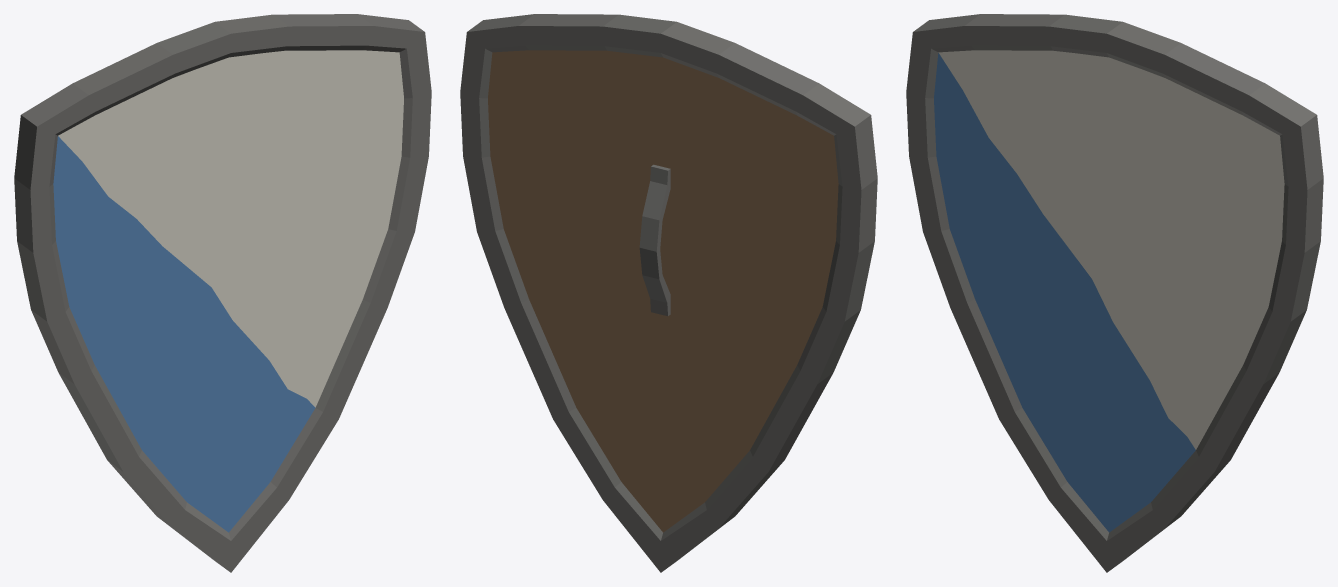
File: SM_pwe_medieval_shield_03c.fbx
3 renders of one model, left to right at view 1: azimuth 30°, elevation 25°; view 2: azimuth 150°, elevation 25°; view 3: azimuth 330°, elevation 25°, orthographic.
Visible parts, largest first — view 1: SM_pwe_medieval_shield_03c; view 2: SM_pwe_medieval_shield_03c; view 3: SM_pwe_medieval_shield_03c.
Part boxes in pixels (<box>): SM_pwe_medieval_shield_03c: <box>14,14,431,572</box>; SM_pwe_medieval_shield_03c: <box>460,14,877,572</box>; SM_pwe_medieval_shield_03c: <box>906,14,1323,572</box>.
Size of the model in its own units: 63.26 by 81.23 by 7.62.
